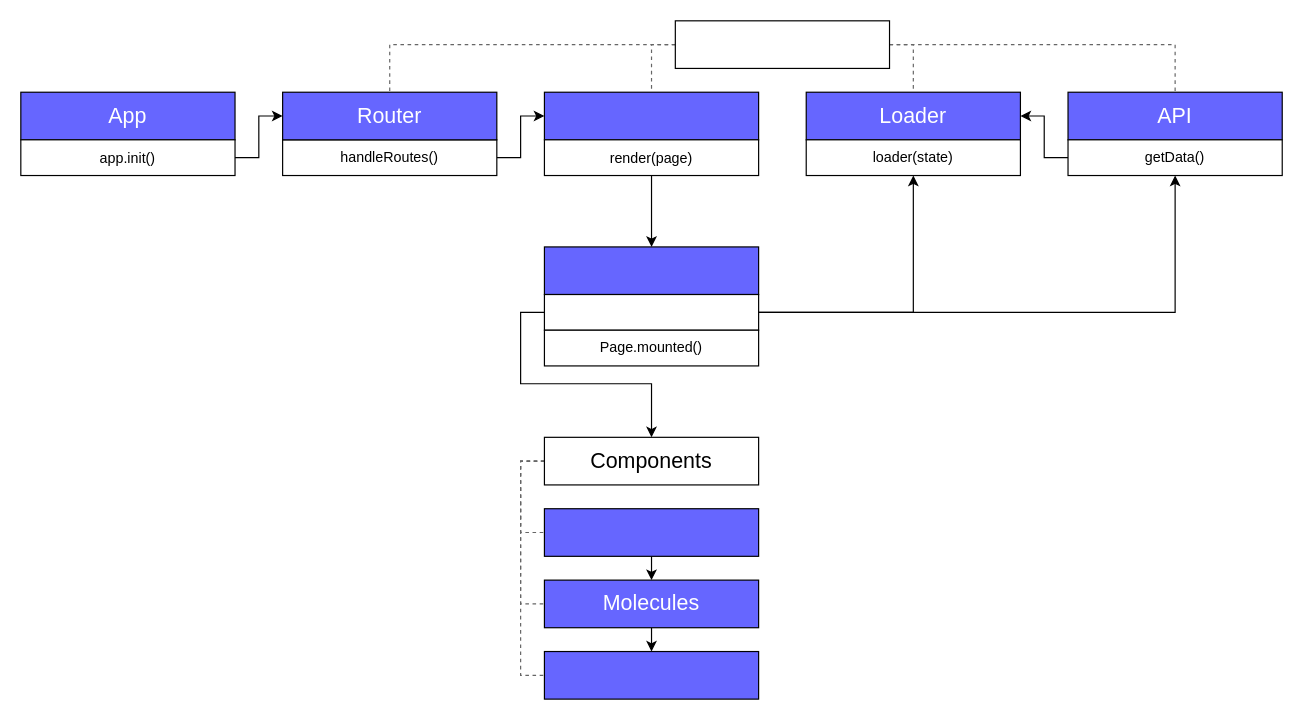
This 1303x720 diagram has some shape labels left out. Here are the shapes that lost their labels. From the top down, the centre of each, then its label:
At pixel 782 44: "Modules".
At pixel 651 115: "Render".
At pixel 651 270: "Page".
At pixel 651 311: "Page.render()".
At pixel 651 532: "Organisms".
At pixel 651 674: "Atoms".
